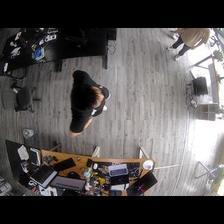normal: (68, 69, 112, 138)
